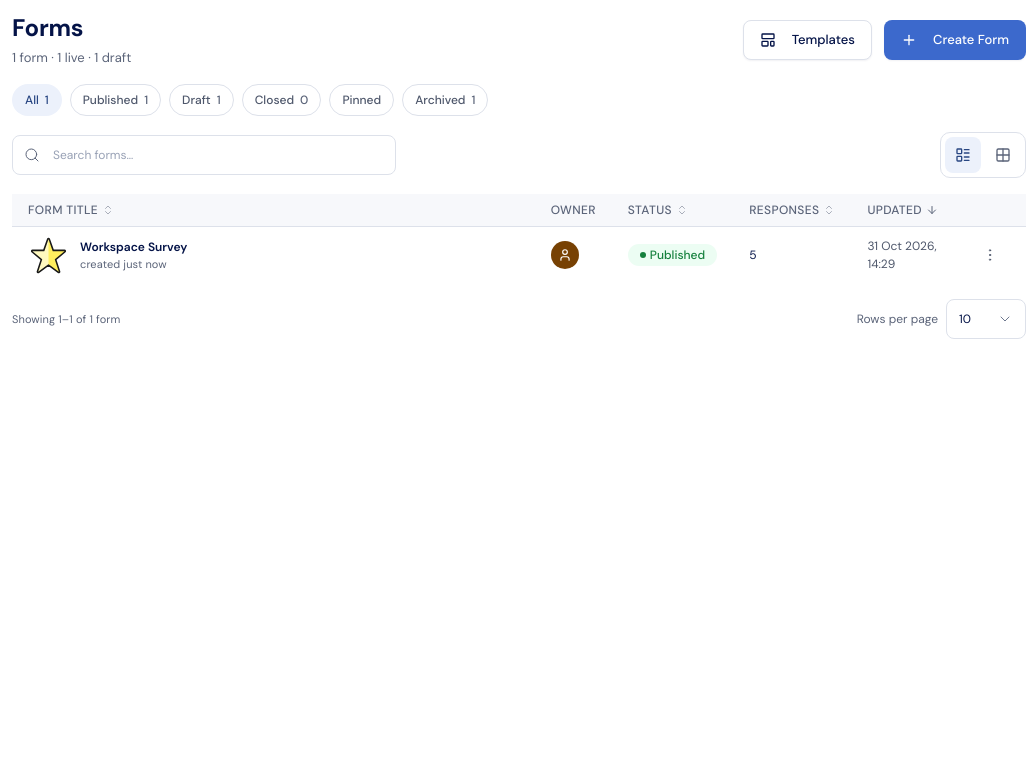
Test case: WorkspaceFormsPage — FormsPage rendered with workspace context › a form title links to its Overview, and the row menu offers Overview first (tasks.md 3.4)
Click the button named "Actions for": (990, 255) [970,235,1010,275]
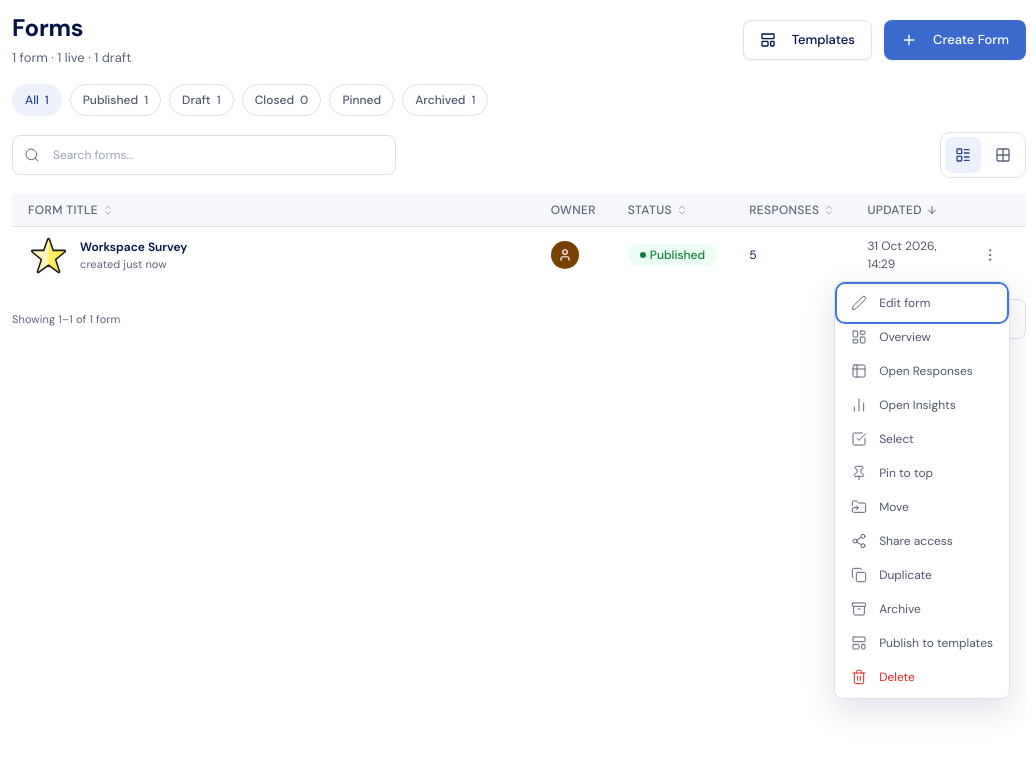
expect the menu item "Edit form" is shown: met, box [839,286,1005,320]
expect the menu item "Overview" is shown: met, box [839,320,1005,354]
